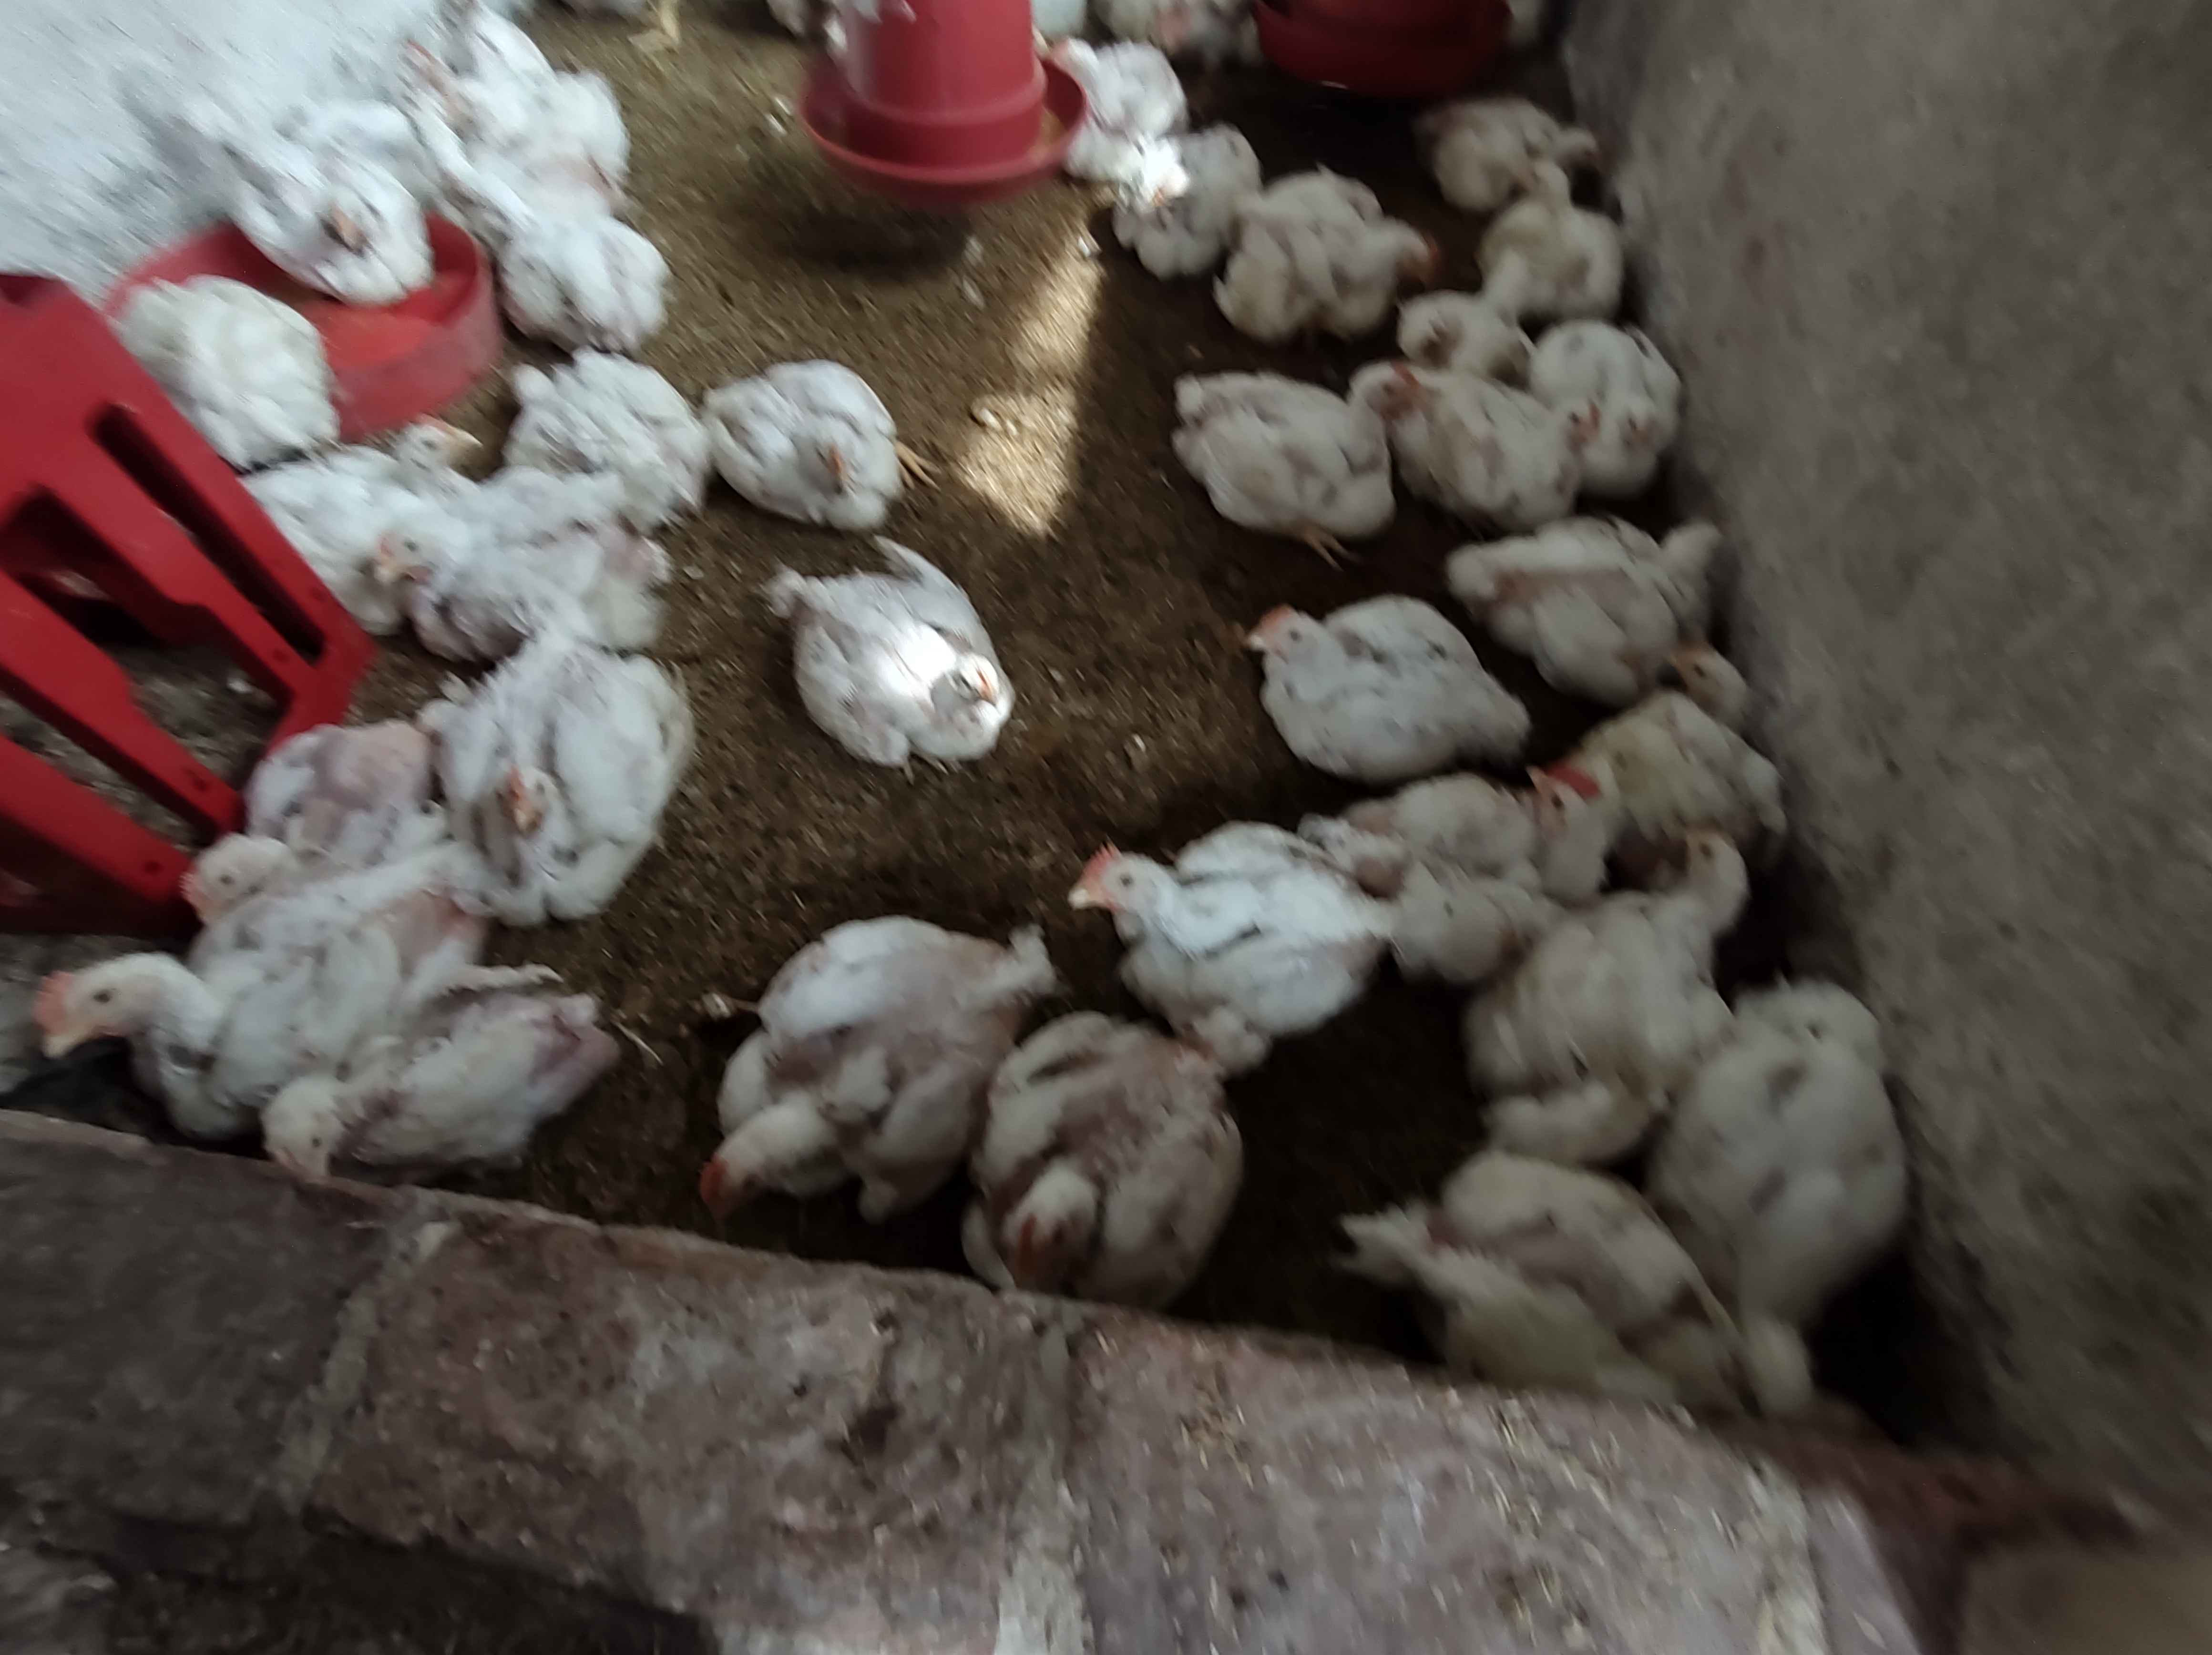Pollos: (967, 1008, 1263, 1295), (710, 944, 977, 1220), (42, 895, 363, 1111), (270, 984, 614, 1177), (435, 648, 678, 885), (183, 721, 423, 923), (374, 506, 692, 641), (1189, 355, 1429, 516), (805, 563, 1010, 746), (231, 122, 430, 292), (1247, 593, 1473, 741), (1071, 836, 1301, 975), (1609, 829, 1751, 1040), (743, 381, 911, 509), (1494, 160, 1640, 306), (1631, 631, 1762, 794), (1264, 177, 1429, 285), (1116, 136, 1252, 261), (323, 409, 485, 501), (1515, 761, 1621, 859), (1502, 379, 1596, 480), (1605, 360, 1683, 468)
